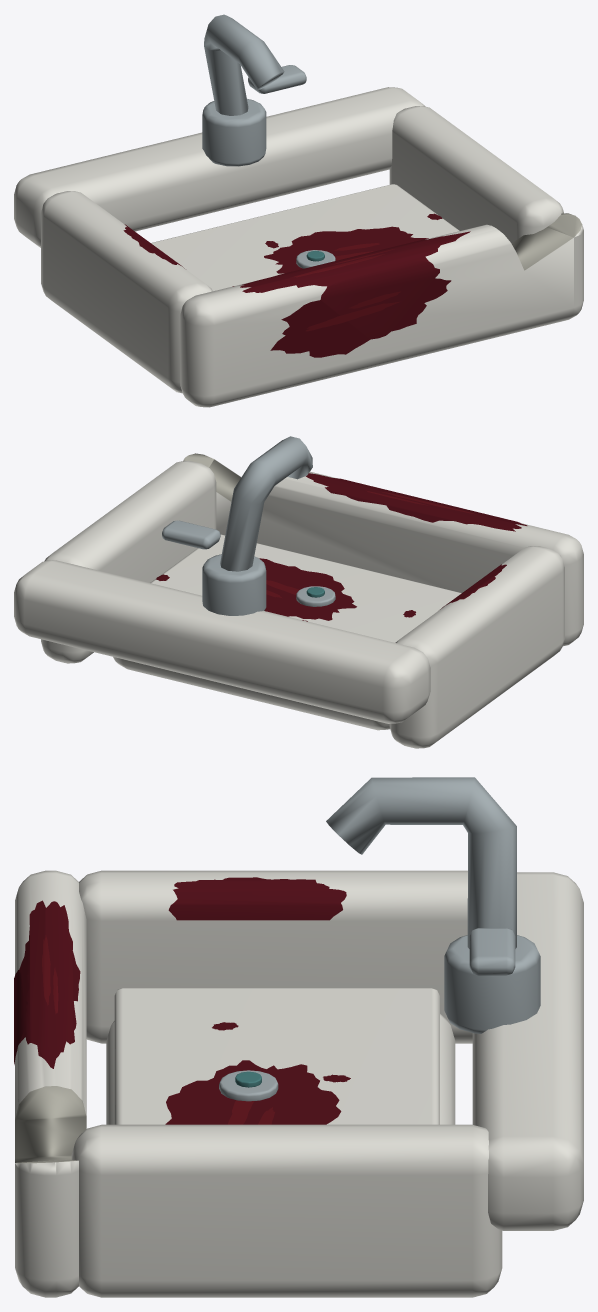
Rendered from handwash_basin.glb.
3 views of the same model, one above another, from view 1: azimuth 30°, elevation 25°; view 2: azimuth 150°, elevation 25°; view 3: azimuth 270°, elevation 25° (orthographic). The views are drawn at different scales.
Visible parts, largest first — view 1: Outbreak_Clinical_Handwash_Basin_Static; view 2: Outbreak_Clinical_Handwash_Basin_Static; view 3: Outbreak_Clinical_Handwash_Basin_Static.
Boxes of the visible parts, x1,y1,x2,y2 form: Outbreak_Clinical_Handwash_Basin_Static: (14,14,583,407); Outbreak_Clinical_Handwash_Basin_Static: (14,436,583,748); Outbreak_Clinical_Handwash_Basin_Static: (14,777,583,1297).
Bounding box in the file's own units: 0.55 × 0.3389 × 0.4607.
